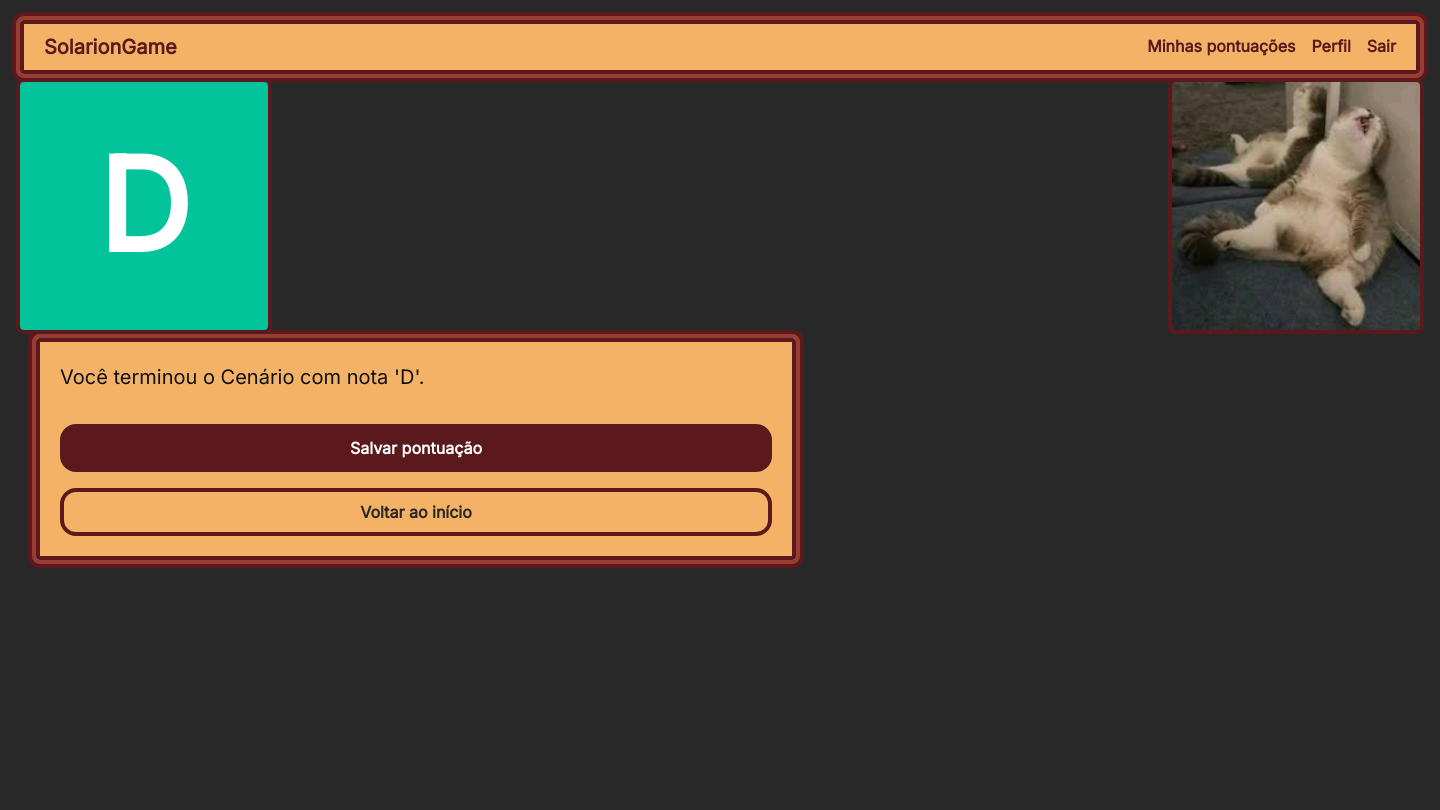
DecisionsRating Page › when have last scenario › and when finished › and when click on save score › and when logged user › and when createScoreApi request succeeds › should open success modal
Click the button "Salvar pontuação": (416, 448) [60,424,772,472]
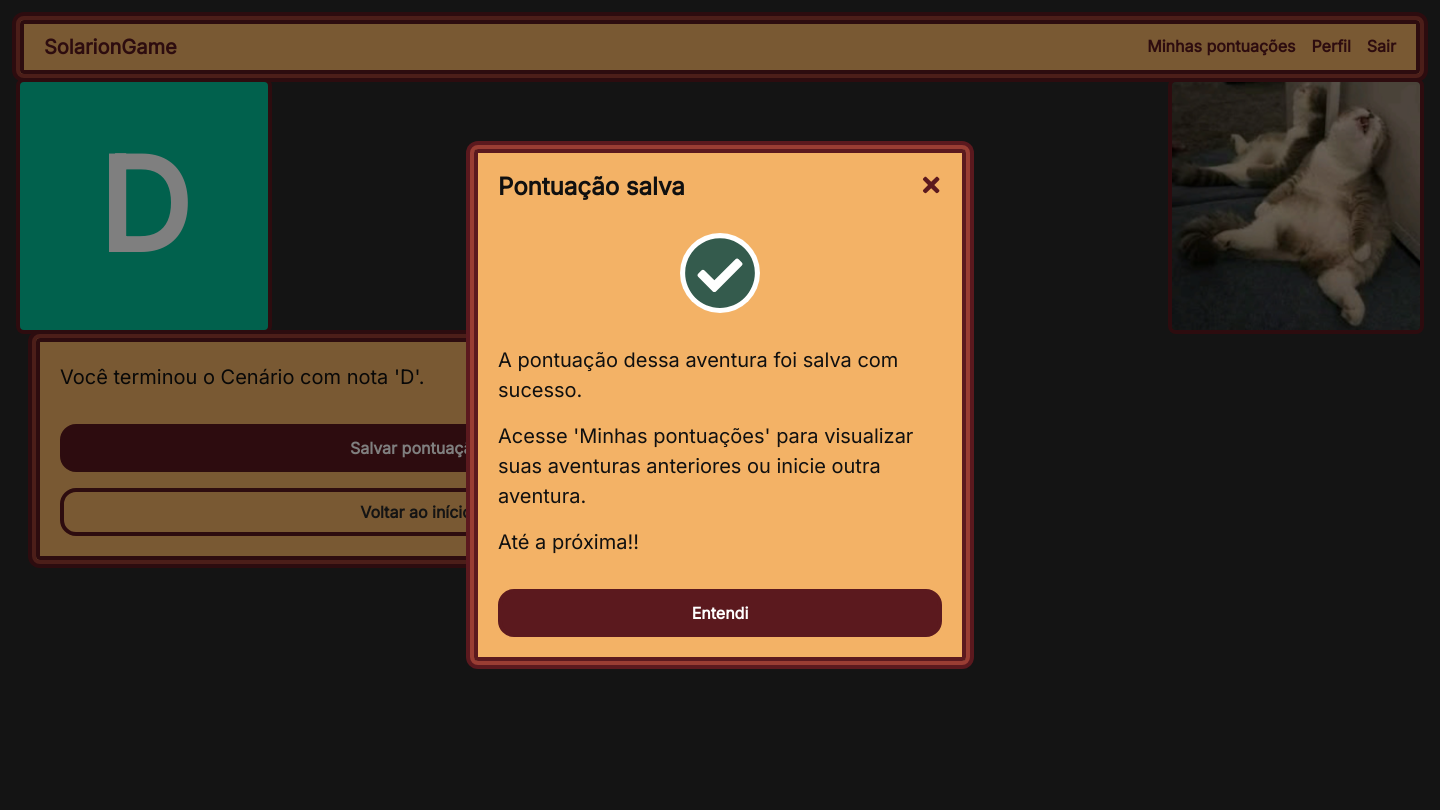
Expected: the dialog is shown, [470,145,970,665]
Expected: the heading "Pontuação salva" is shown, [498,172,685,201]
Expected: the button "Entendi" is shown, [498,589,942,637]
